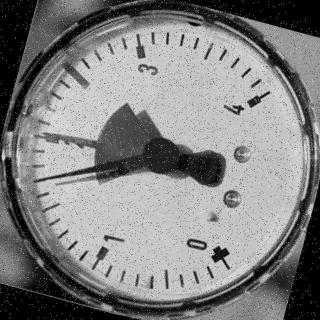gauge: (0, 0, 320, 320), (138, 132, 185, 178), (204, 234, 240, 276), (237, 83, 269, 117), (35, 125, 55, 142), (28, 172, 46, 189)
